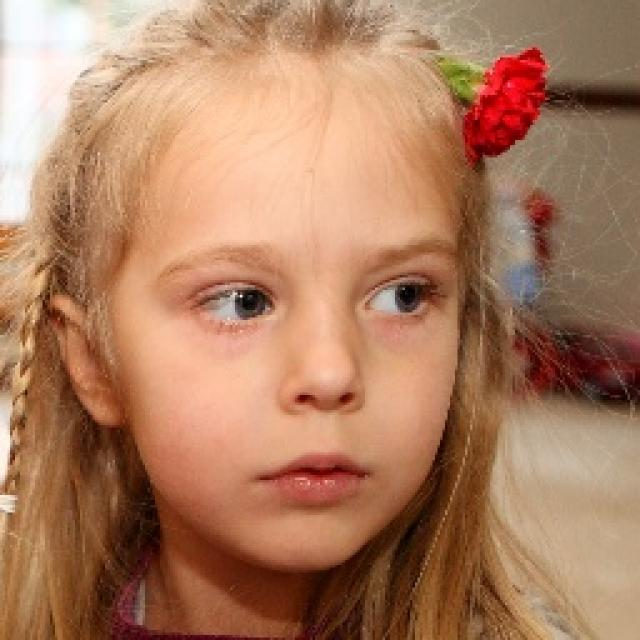earlobe: (287, 394, 356, 448), (89, 380, 125, 430)
eye: (195, 283, 274, 322), (366, 280, 436, 314)
wholeear: (45, 294, 125, 430)
